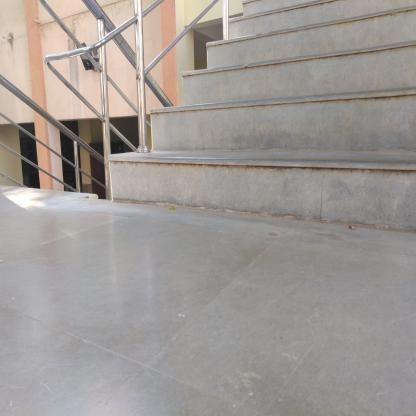stairs: (232, 4, 414, 234)
